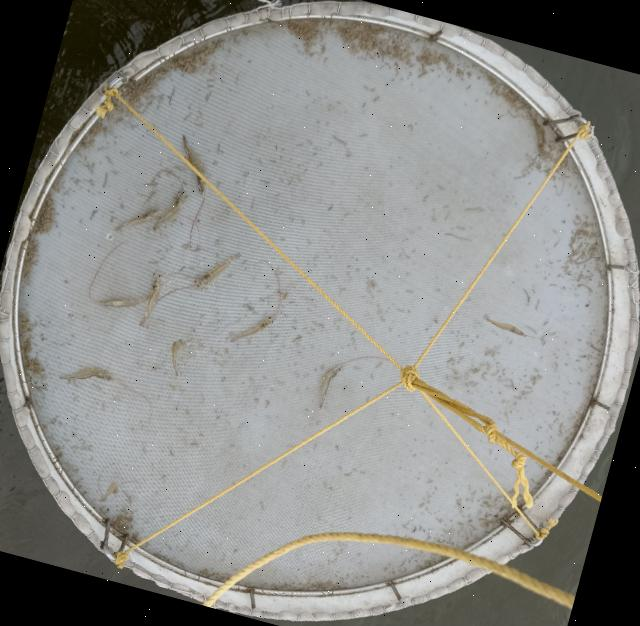shrimp: (230, 279, 287, 342), (192, 254, 240, 290), (108, 210, 162, 240), (182, 134, 208, 196), (153, 191, 187, 231), (140, 274, 163, 328), (319, 365, 343, 408), (483, 314, 527, 337), (60, 368, 113, 383), (171, 340, 189, 377), (94, 298, 147, 308)
